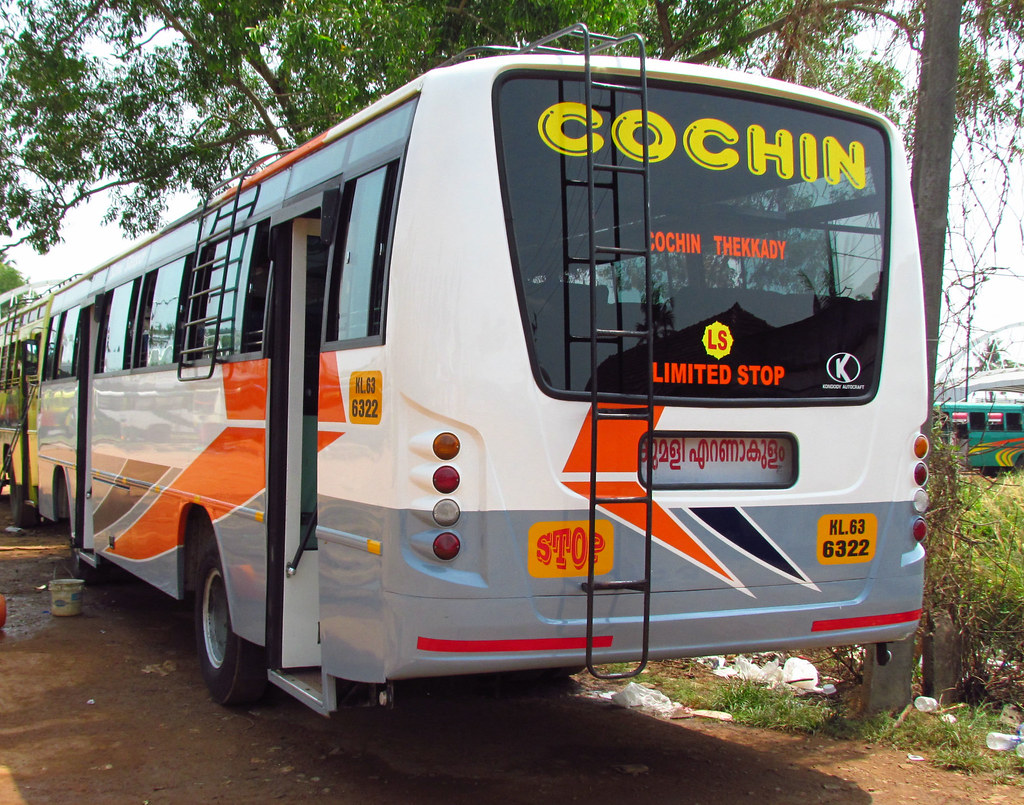bus: (29, 56, 972, 709)
